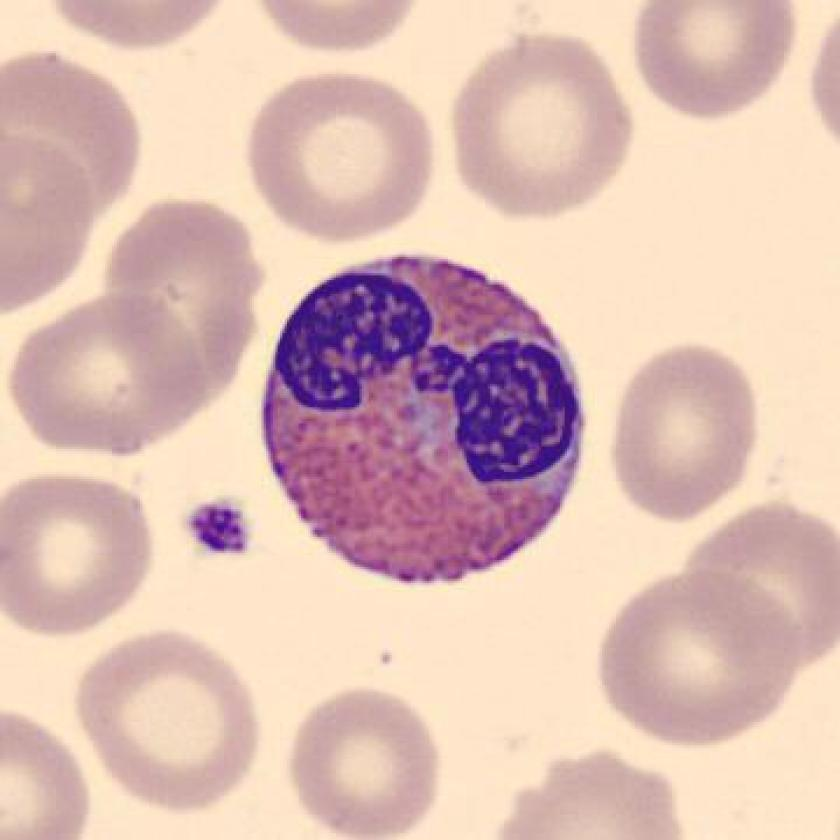eosinophil: (249, 242, 599, 596)
